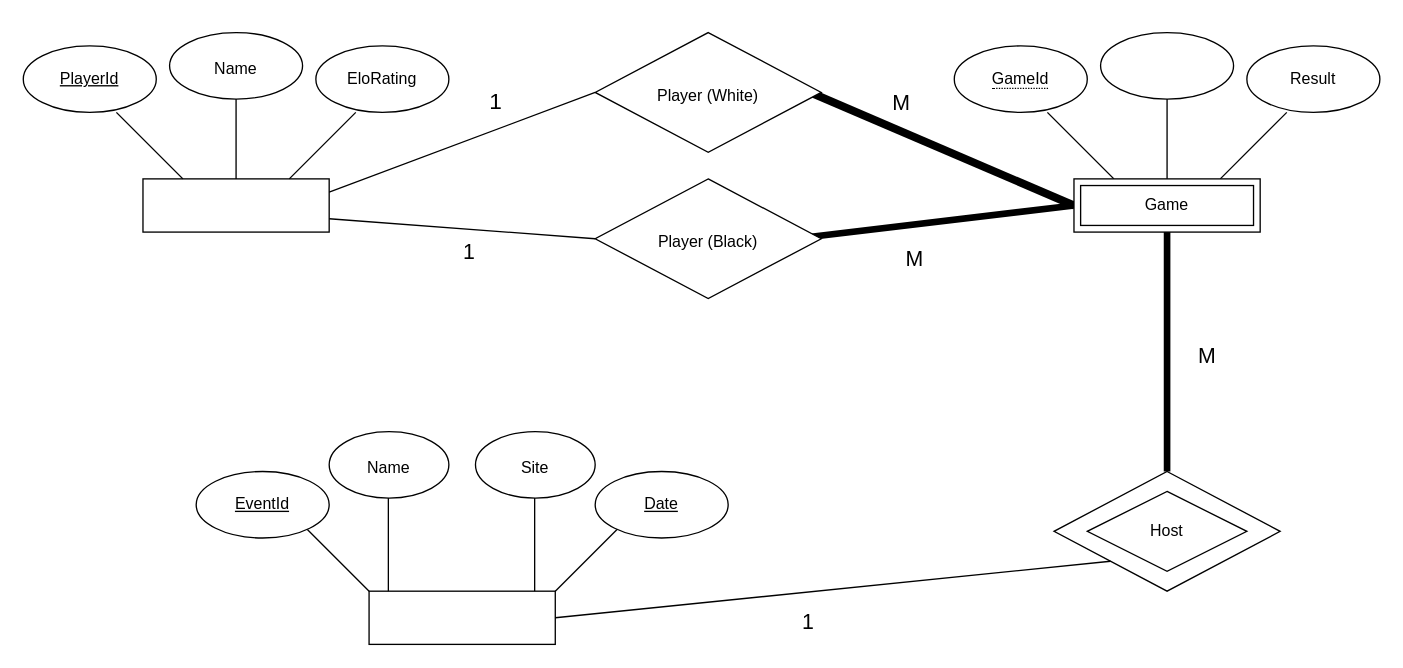
This 1403x668 diagram has some shape labels left out. Here are the shapes that lost their labels. From the top down, the box of each, then its label:
(1099, 31, 1234, 99): Moves
(142, 178, 329, 232): Player
(368, 590, 555, 644): Event
